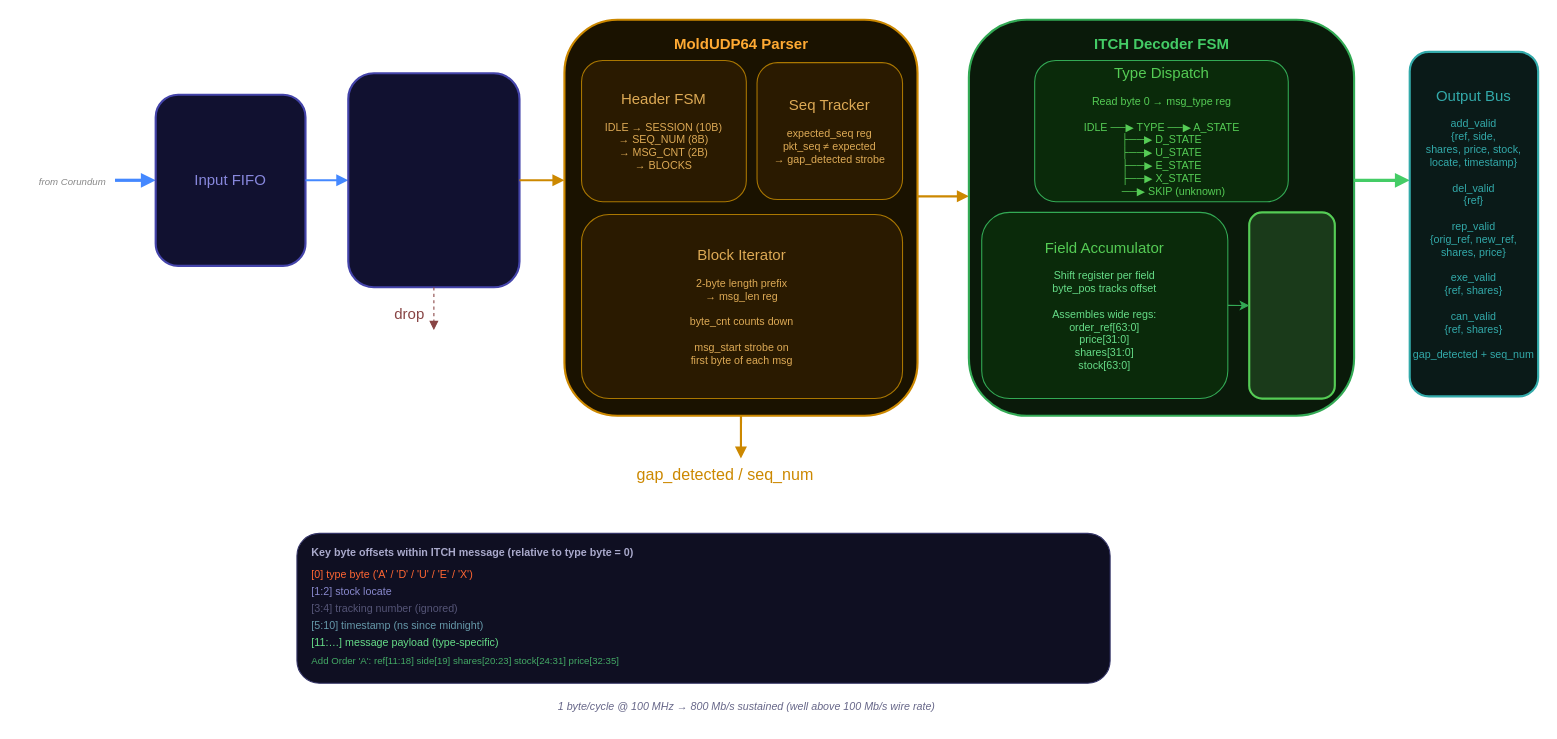
Image size: 1557x739. Some labels were removed from this diagram. Here are the shapes that lost their labels. From the top down, the centre of each, then its label:
At [433,180]: "Channel Filter".
At [1291,305]: "Valid Strobes".
